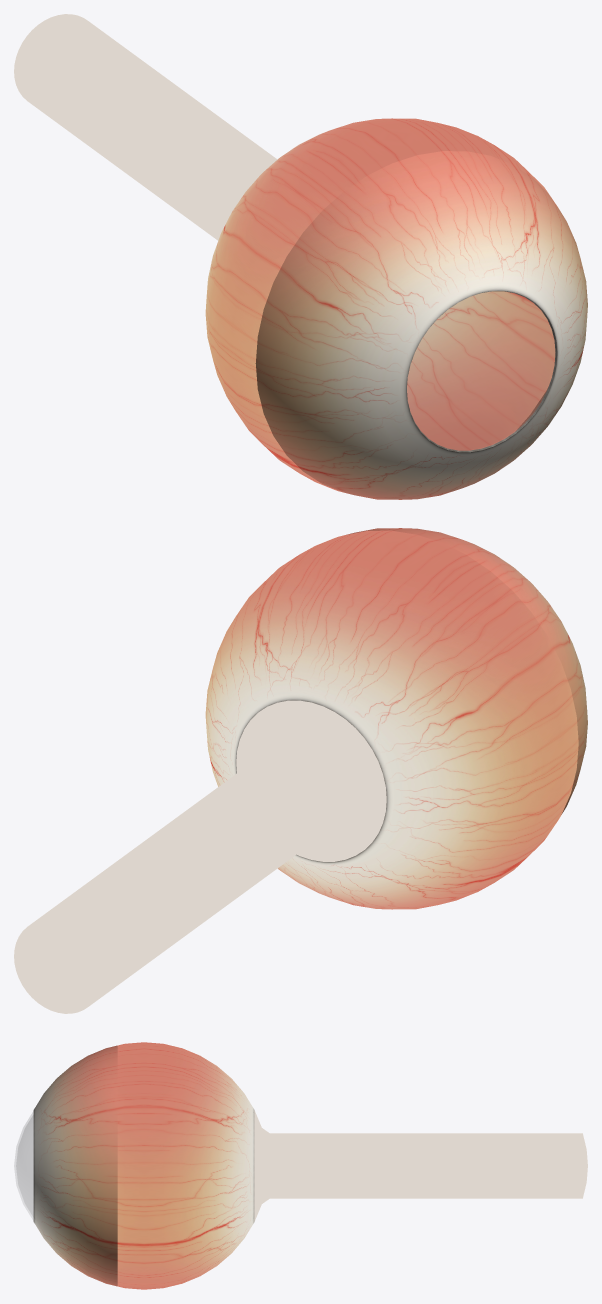
The model's file is eye_04.FBX.
3 views of the same model, one above another, from view 1: azimuth 30°, elevation 25°; view 2: azimuth 150°, elevation 25°; view 3: azimuth 270°, elevation 25° (orthographic). The views are drawn at different scales.
Parts seen in each view (by area): view 1: 鞏膜001, 角膜; view 2: 鞏膜001; view 3: 鞏膜001, 角膜.
Part boxes in pixels (x1,y1,x2,y2): 鞏膜001: [14, 14, 587, 499]; 角膜: [407, 291, 554, 450]; 鞏膜001: [14, 528, 587, 1013]; 鞏膜001: [33, 1042, 587, 1289]; 角膜: [14, 1113, 33, 1218].
Size of the model in its own units: 71.51 by 71.51 by 166.
